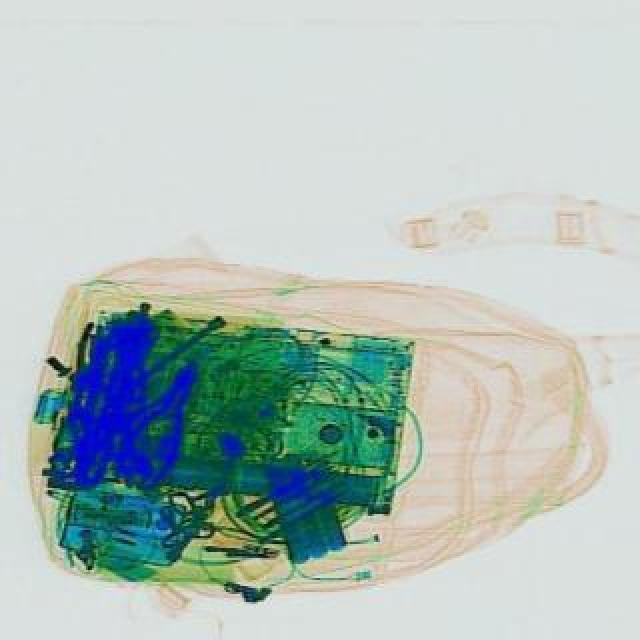wrench: (108, 352, 222, 498)
